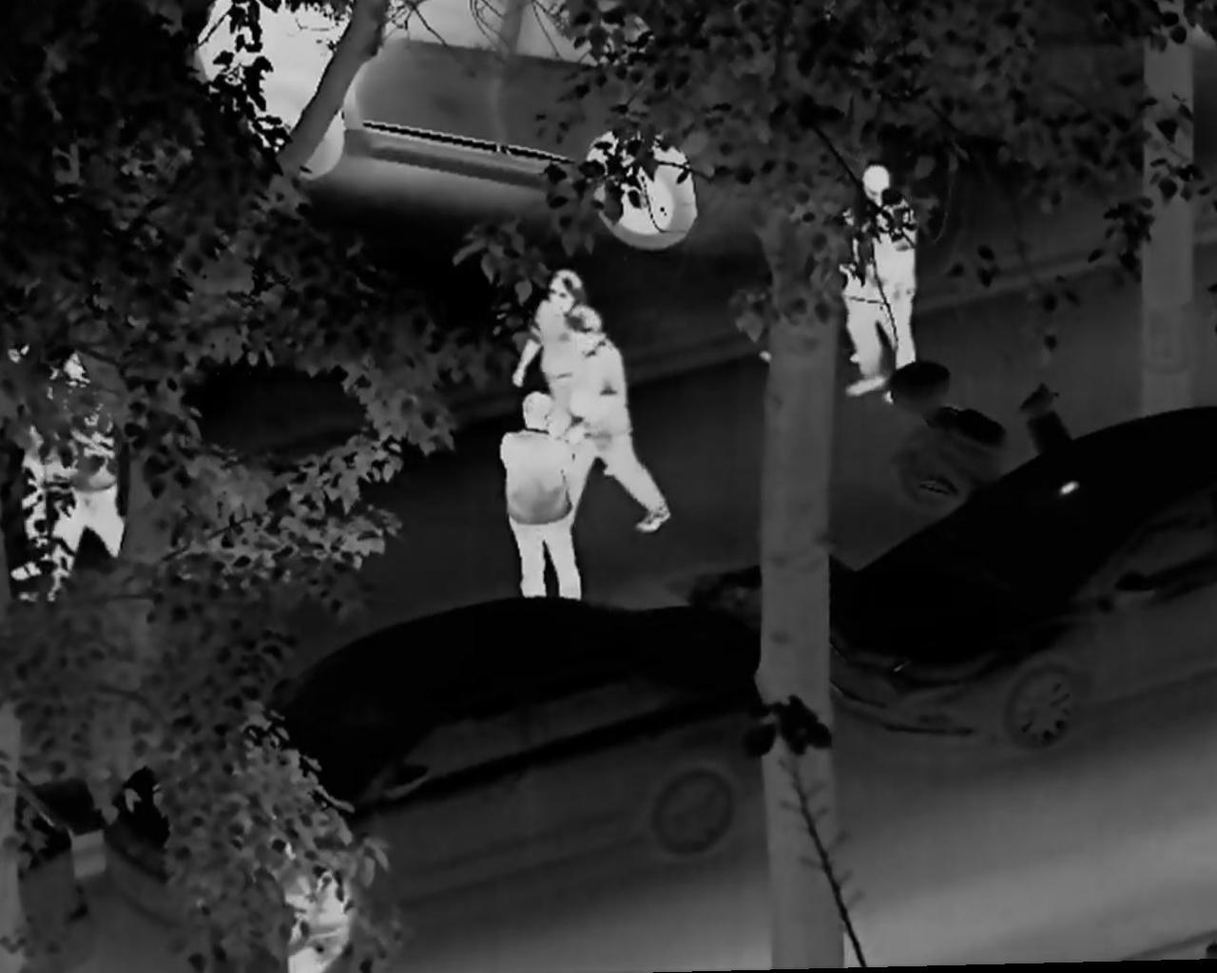person: (26, 346, 150, 616), (549, 303, 677, 541), (846, 166, 931, 408), (497, 390, 584, 611), (760, 203, 865, 368), (248, 824, 364, 973), (8, 326, 67, 587), (510, 266, 601, 408)
